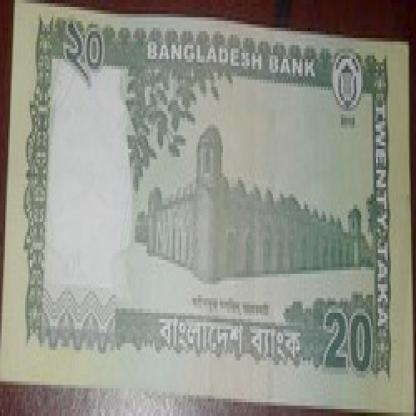Twenty: (310, 291, 388, 392), (48, 20, 123, 86)
